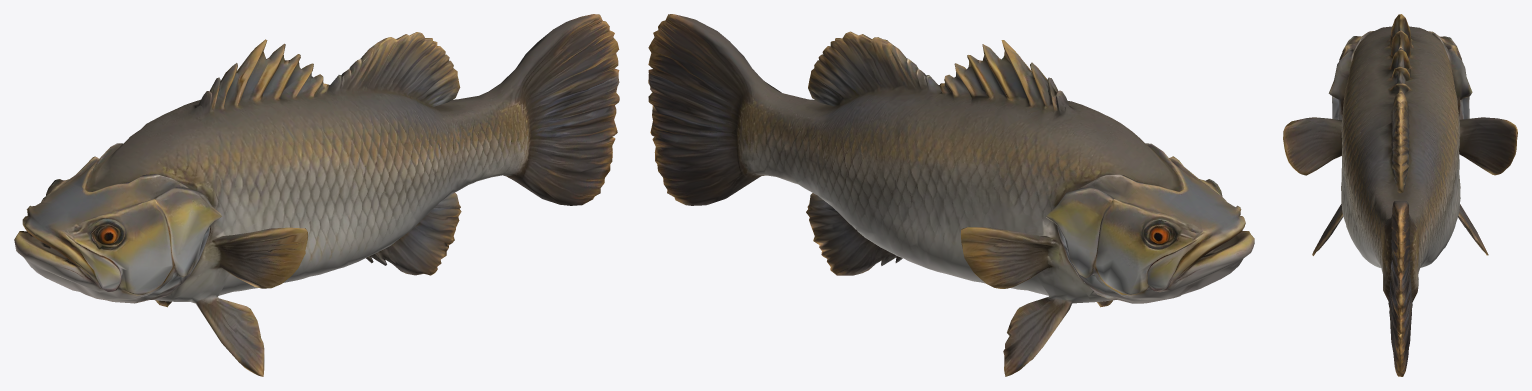
The model's file is fish-barramundi.glb.
3 views of the same model, side by side, from view 1: azimuth 30°, elevation 25°; view 2: azimuth 150°, elevation 25°; view 3: azimuth 270°, elevation 25° (orthographic). The views are drawn at different scales.
Visible parts, largest first — view 1: tripo_node_21daaaab-12aa-4ed5-b028-a375598a59cd; view 2: tripo_node_21daaaab-12aa-4ed5-b028-a375598a59cd; view 3: tripo_node_21daaaab-12aa-4ed5-b028-a375598a59cd.
Part boxes in pixels (<box>): tripo_node_21daaaab-12aa-4ed5-b028-a375598a59cd: <box>14,14,619,376</box>; tripo_node_21daaaab-12aa-4ed5-b028-a375598a59cd: <box>648,14,1254,376</box>; tripo_node_21daaaab-12aa-4ed5-b028-a375598a59cd: <box>1283,14,1517,376</box>.
Bounding box in the file's own units: 1 × 0.4618 × 0.3711.
Materials: 1 (1 with a texture image).
